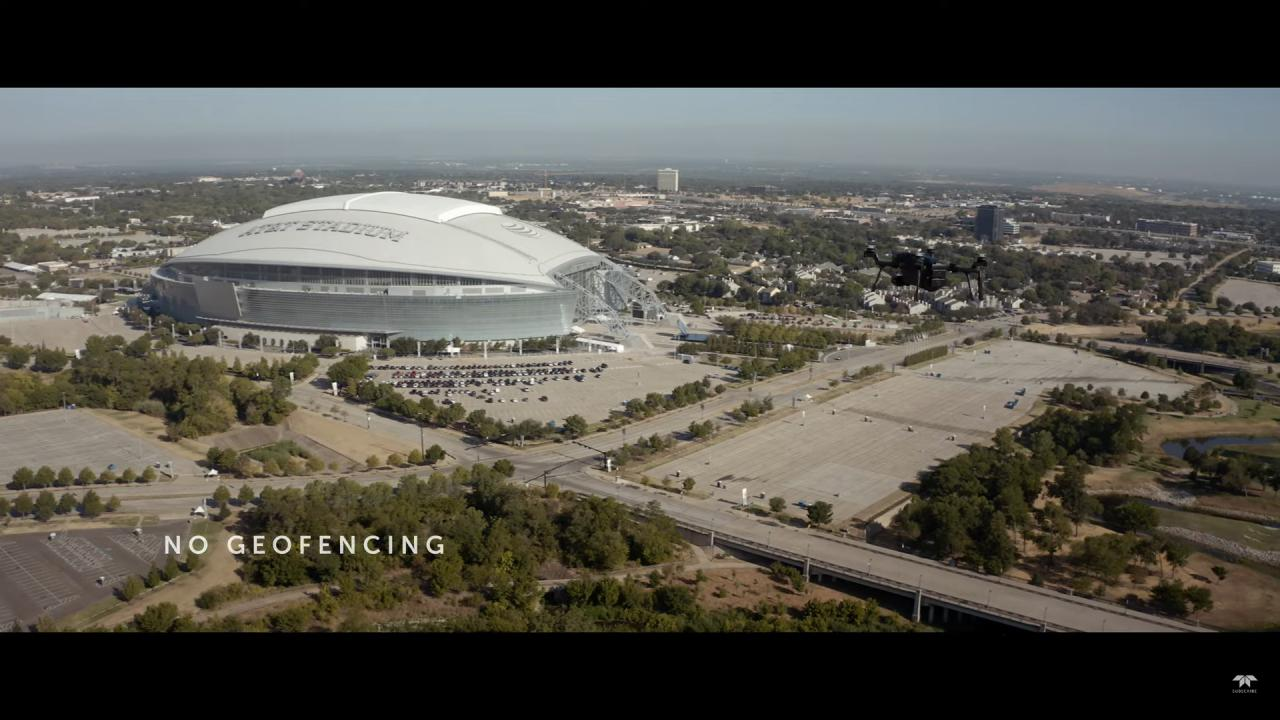Drone: (842, 226, 1006, 318)
